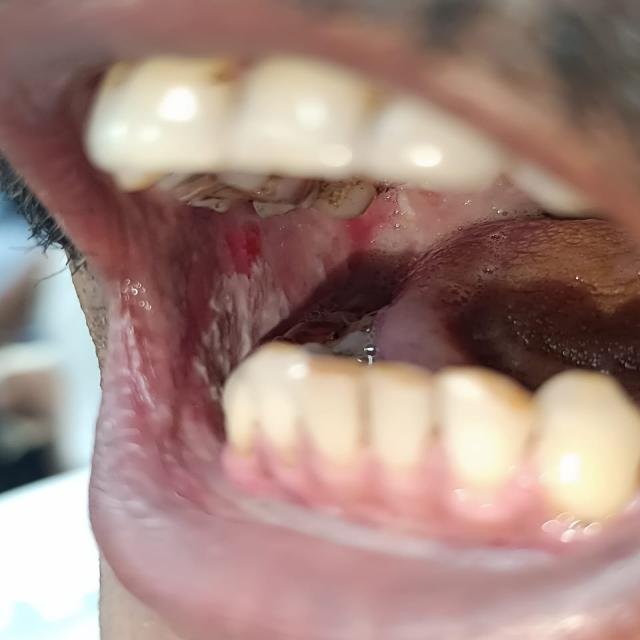leukoplakia-detection: (175, 188, 421, 443)
processing_area: (128, 180, 639, 484)
